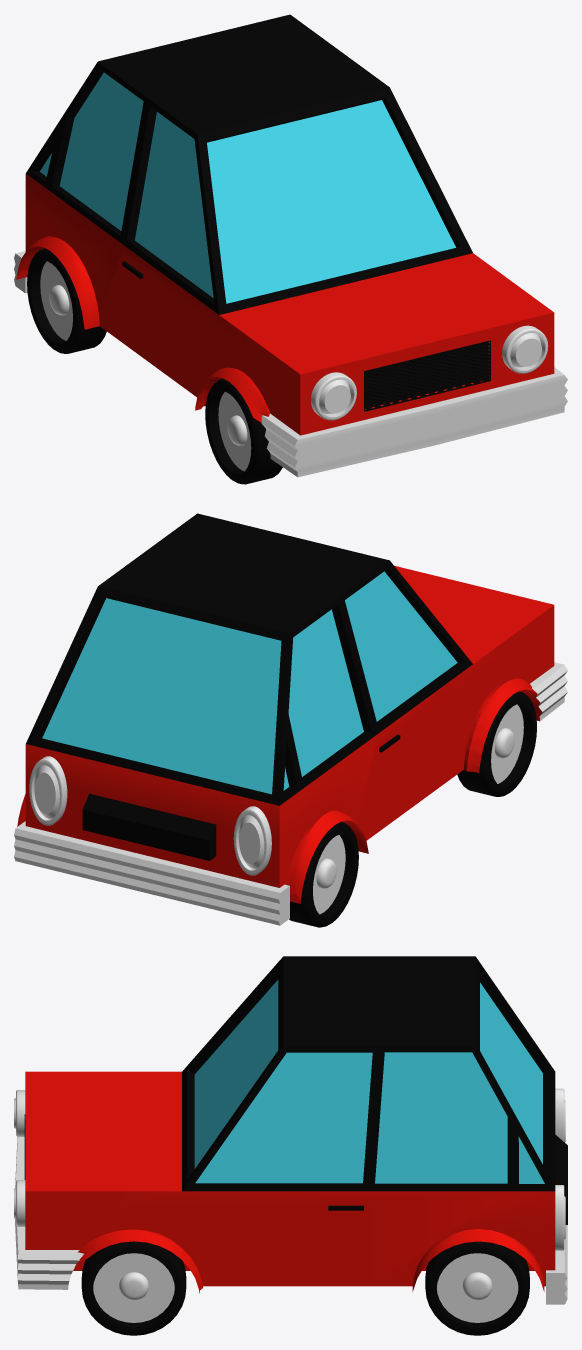
The model's file is lopoly.fbx.
3 renders of one model, top to bottom at view 1: azimuth 30°, elevation 25°; view 2: azimuth 150°, elevation 25°; view 3: azimuth 270°, elevation 25°, orthographic. The views are drawn at different scales.
Visible parts, largest first — view 1: Cube, Cylinder.003, Cylinder.004; view 2: Cube, Cylinder.003, Cylinder.004; view 3: Cube, Cylinder.002, Cylinder.001.
Part boxes in pixels (box(x1,y1,x2,y2)): Cube: box(14, 14, 567, 477); Cylinder.003: box(205, 379, 282, 484); Cylinder.004: box(27, 248, 106, 353); Cube: box(14, 513, 567, 925); Cylinder.003: box(457, 691, 536, 796); Cylinder.004: box(289, 822, 358, 927); Cube: box(14, 956, 567, 1304); Cylinder.002: box(81, 1241, 186, 1335); Cylinder.001: box(425, 1241, 529, 1335).
Size of the model in its own units: 224 by 211 by 392.
